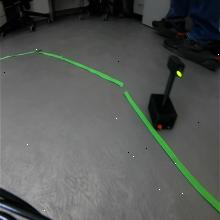green: (167, 54, 186, 80)
